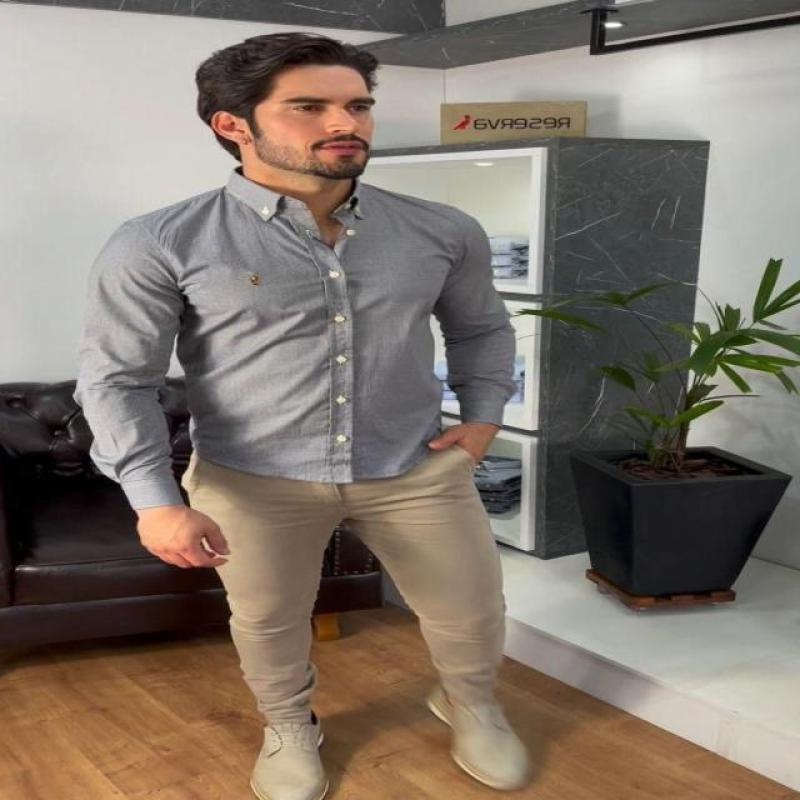long sleeve shirt: (66, 164, 518, 516)
trousers: (182, 435, 510, 722)
